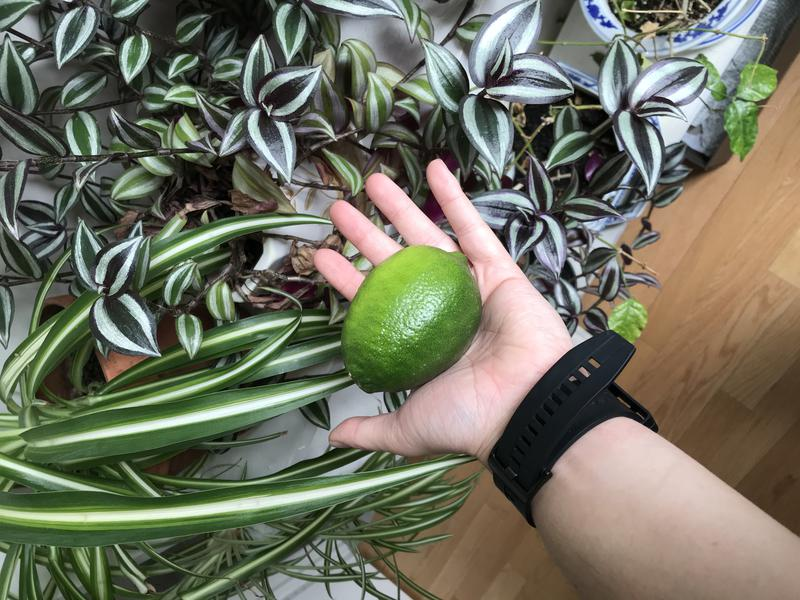lime: (321, 232, 498, 397)
